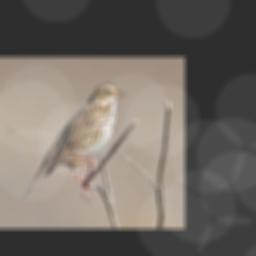Sparrow: (21, 83, 126, 203)
